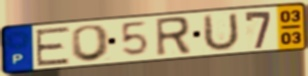5: (118, 20, 151, 58)
7: (244, 10, 273, 50)
E: (34, 25, 72, 68)
O: (69, 23, 112, 63)
R: (154, 15, 193, 58)
U: (202, 11, 241, 54)
